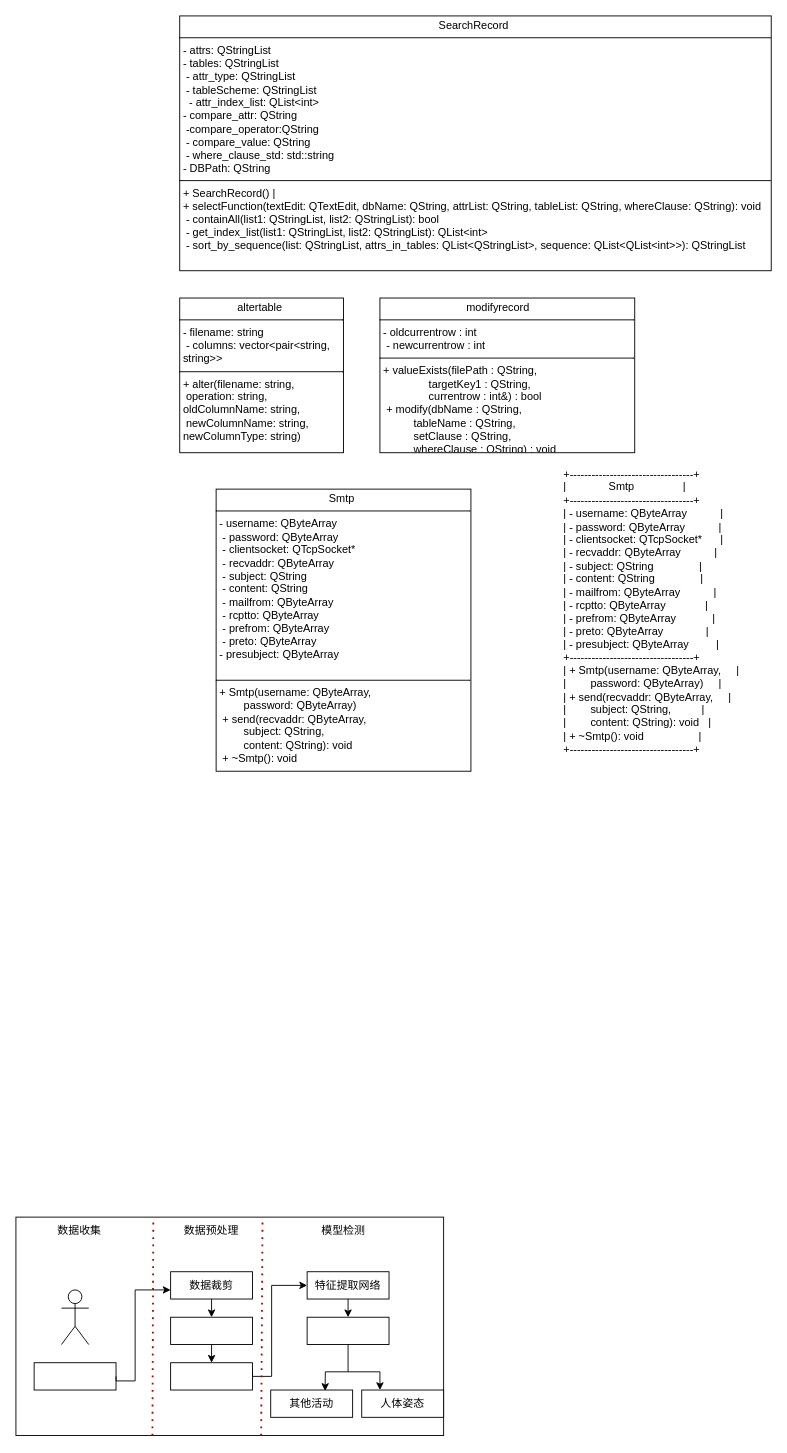
The diagram is 787 pixels wide and 1453 high, and some of its shapes have lost their labels. Each missing label, with the centre of its shape:
"CSI数据获取" goes at (x=74, y=1376).
"归一化处理" goes at (x=211, y=1376).
"数据差值补全" goes at (x=211, y=1330).
"相似度计算网络" goes at (x=347, y=1330).
